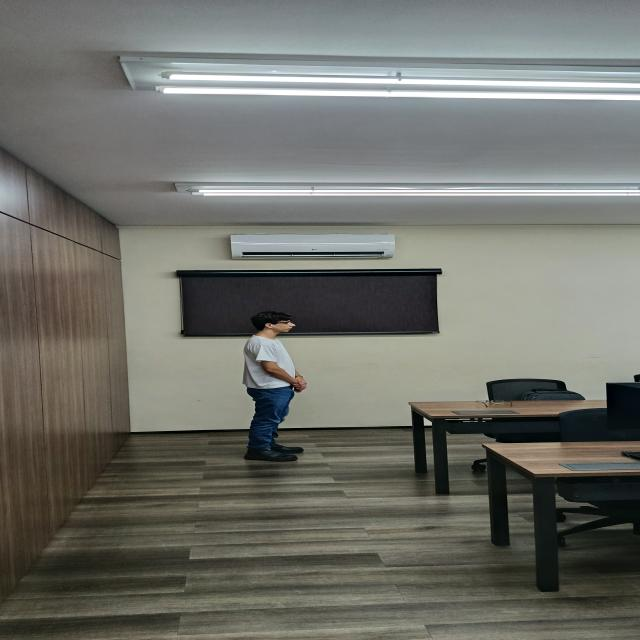oculos-epi: (278, 321, 291, 325)
